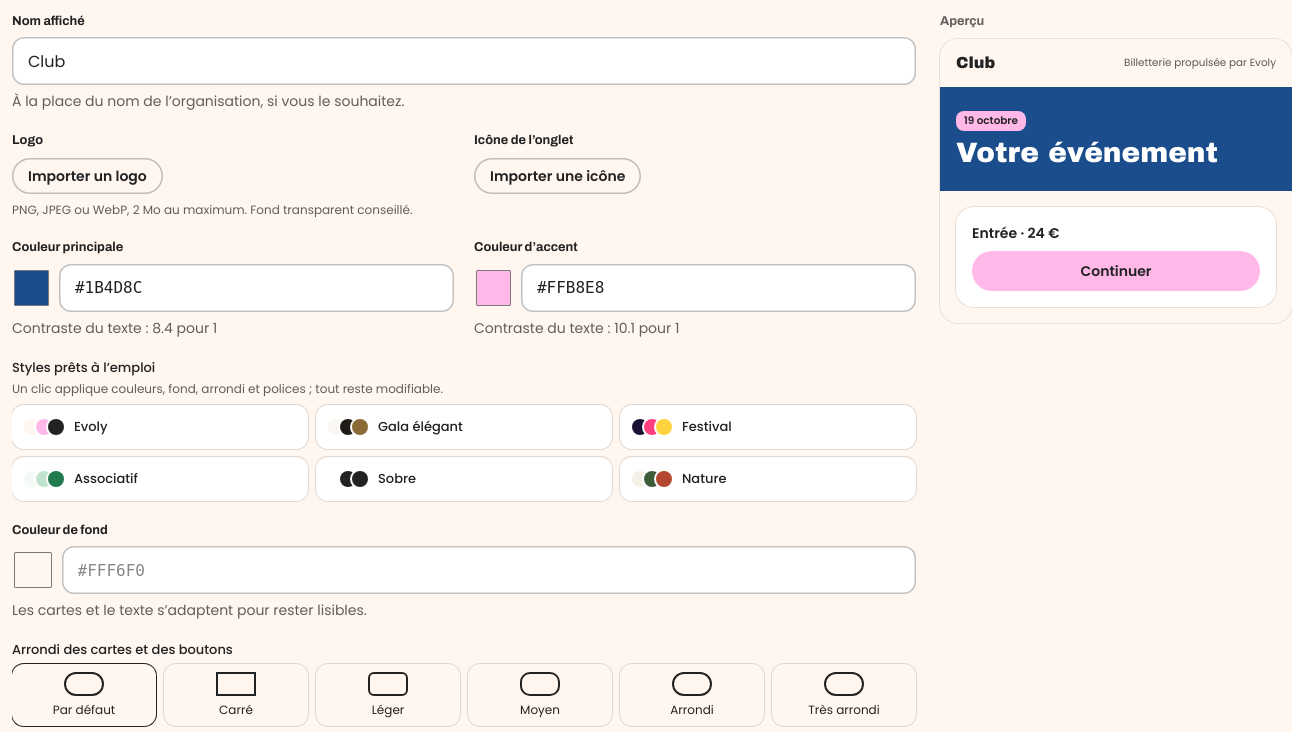
Test: configurateur de la marque (US-BRD-01, RG-BRD-01) › contraste calculé en direct pour chaque couleur ; couleur illisible : celle de la palette
Replace the text in the field labelled "Couleur principale" with "pas-une-couleur" at (256, 288), box [59, 264, 454, 312]
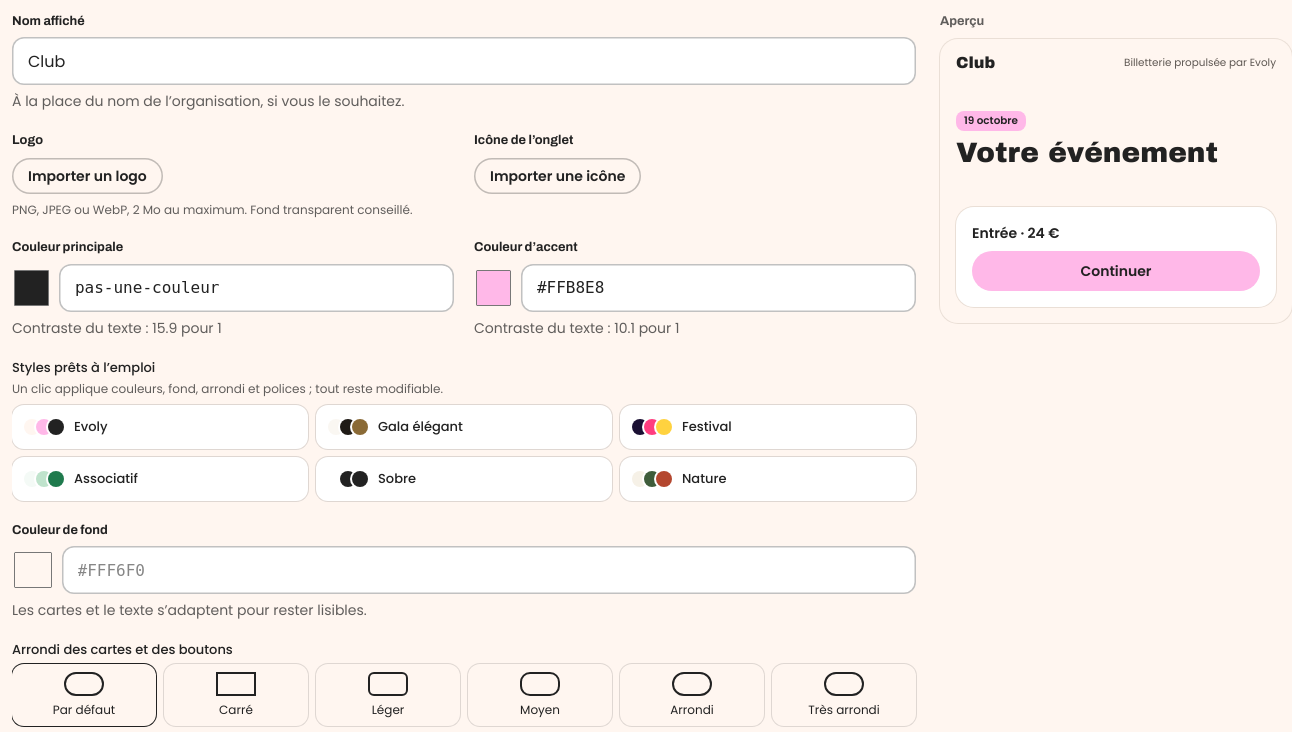
Type "#ff0000" into the colour field named "Couleur principale" at (32, 288), box [12, 266, 51, 310]
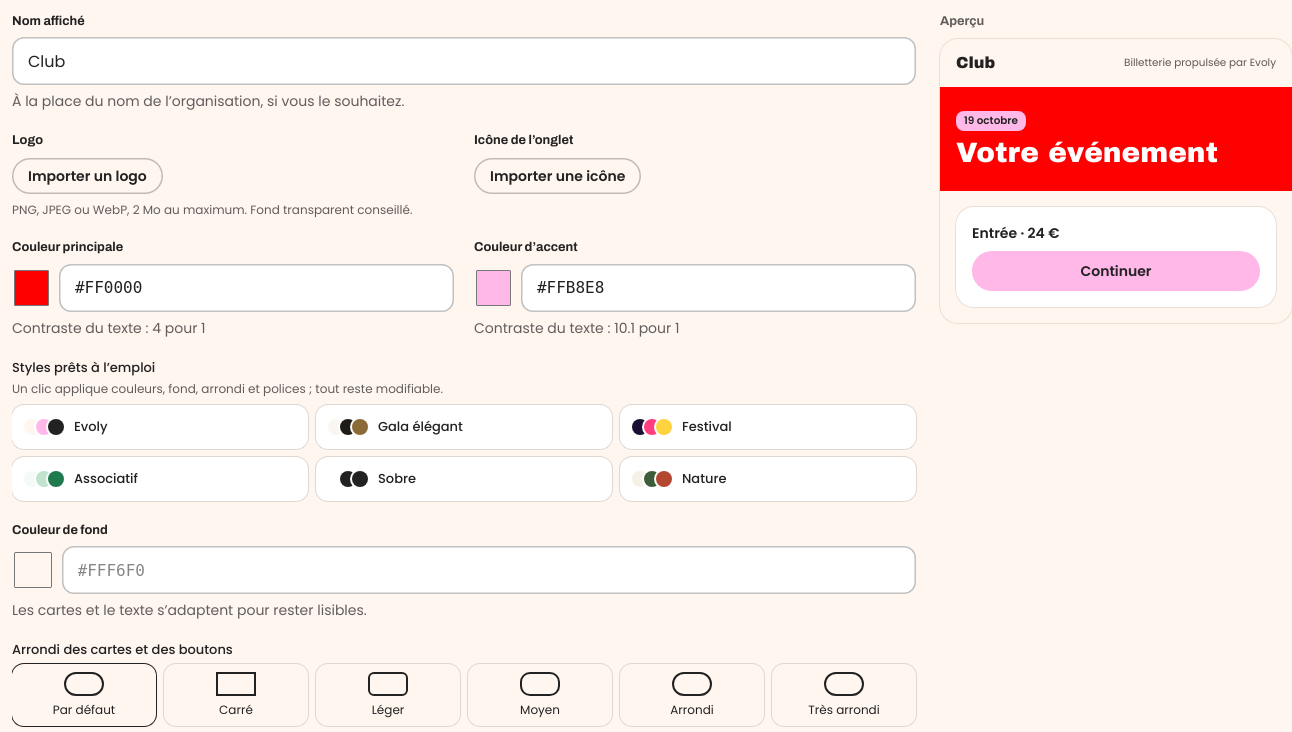
Now the field labelled "Couleur principale" holds "#FF0000", box [59, 264, 454, 312]
